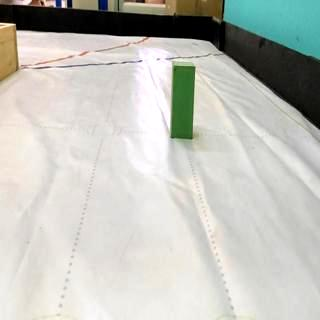greenbox: (170, 59, 199, 139)
